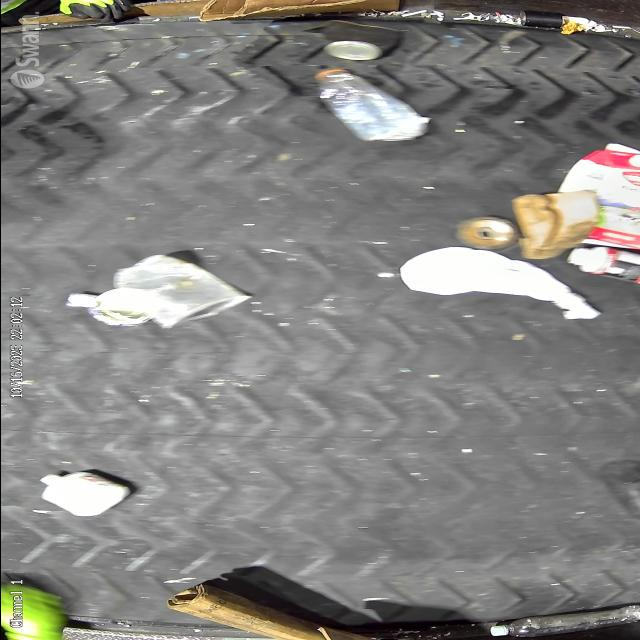can: (317, 17, 403, 60)
plastic_bottle: (312, 64, 434, 143)
